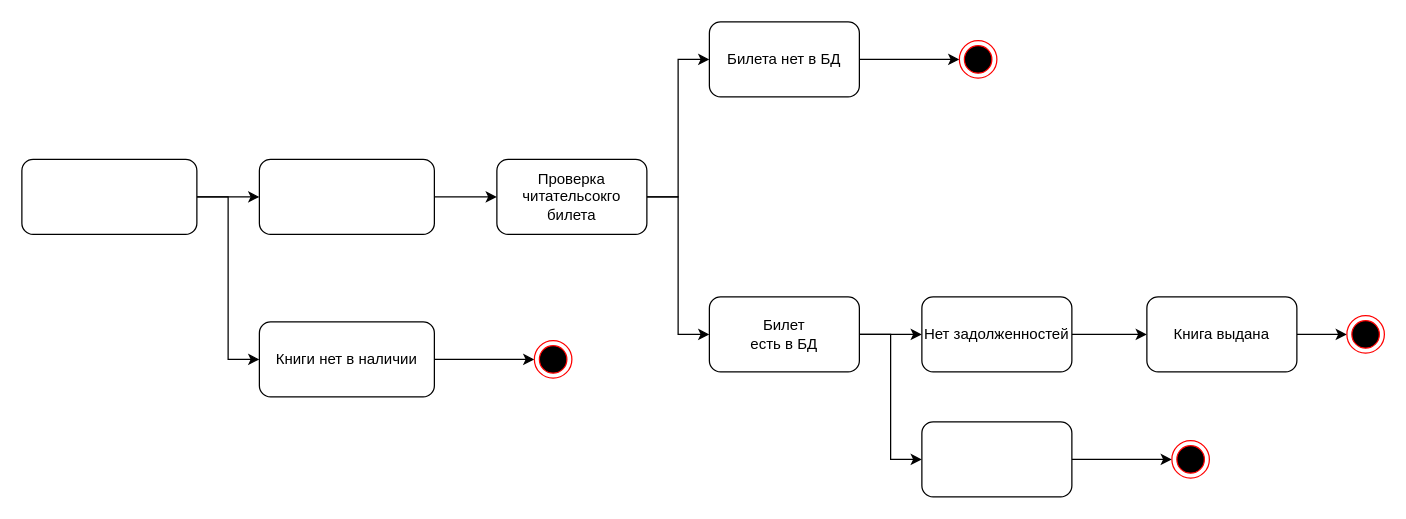
Some shapes in this 1406 by 519 pixel diagram are drawn without their labels. The centre of each missing label's shape, as x and y in pixels:
Есть задолженности: the point at 996,459
Клиент выбрал книгу: the point at 109,196
Книга есть в наличии: the point at 346,196
